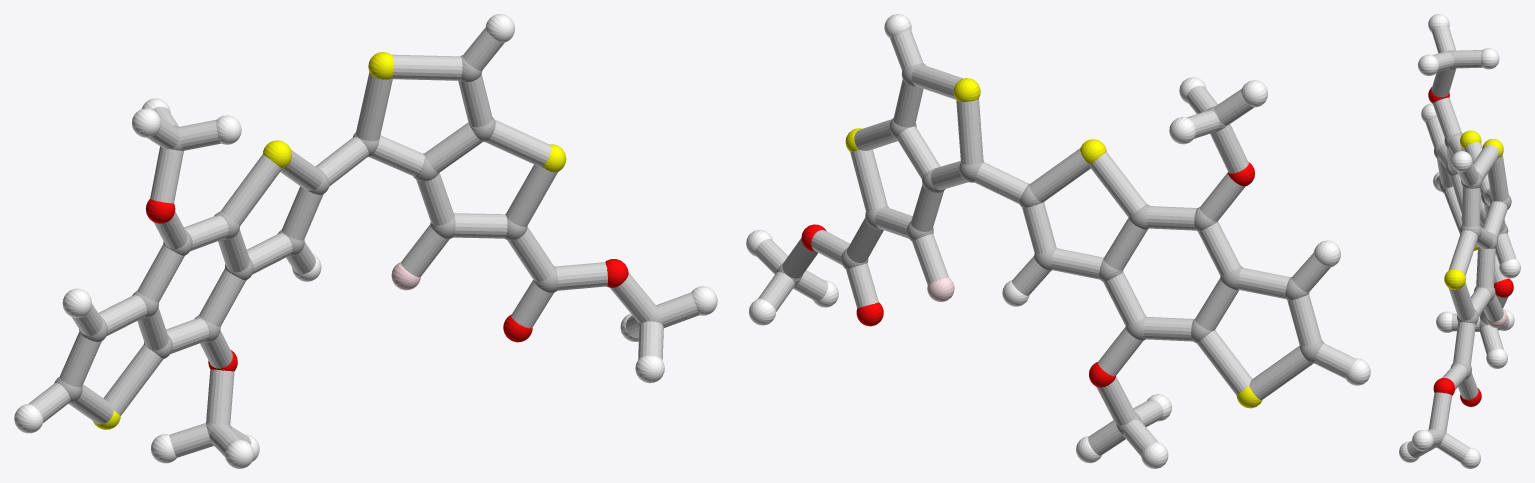
File: color.glb
3 renders of one model, left to right at view 1: azimuth 30°, elevation 25°; view 2: azimuth 150°, elevation 25°; view 3: azimuth 270°, elevation 25°, orthographic. The views are drawn at different scales.
Visible parts, largest first — view 1: grp15205, grp8689, grp1, grp7241, grp13395; view 2: grp15205, grp8689, grp1, grp13395, grp7241; view 3: grp15205, grp8689, grp1, grp13395, grp7241, grp14843.
Part boxes in pixels (left/top/right/bottom): grp15205: left=28, top=27, right=699, bottom=457; grp8689: left=14, top=14, right=717, bottom=468; grp1: left=54, top=55, right=662, bottom=445; grp7241: left=93, top=52, right=566, bottom=429; grp13395: left=146, top=199, right=628, bottom=371; grp15205: left=755, top=30, right=1354, bottom=456; grp8689: left=746, top=14, right=1370, bottom=468; grp1: left=776, top=63, right=1324, bottom=434; grp13395: left=801, top=162, right=1254, bottom=387; grp7241: left=845, top=78, right=1262, bottom=408; grp15205: left=1407, top=25, right=1516, bottom=462; grp8689: left=1399, top=14, right=1520, bottom=468; grp1: left=1429, top=50, right=1511, bottom=447; grp13395: left=1428, top=87, right=1513, bottom=406; grp7241: left=1444, top=130, right=1503, bottom=289; grp14843: left=1486, top=308, right=1507, bottom=327.
Size of the model in its own units: 16.06 by 9.31 by 3.39.
